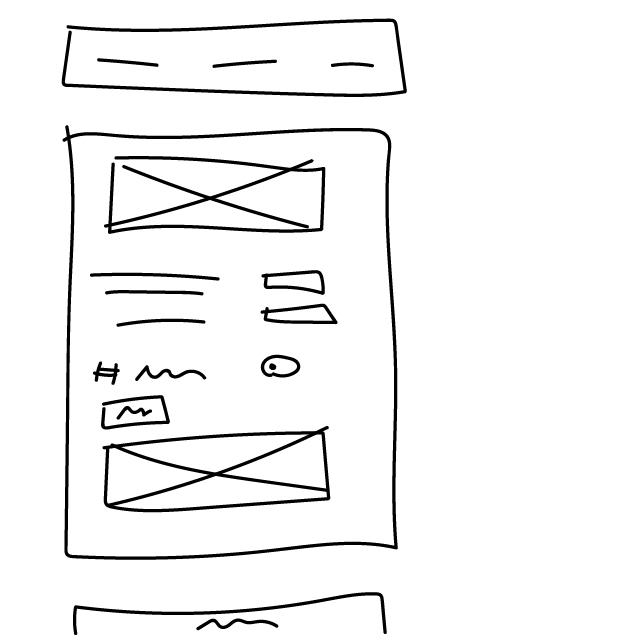button: (101, 390, 176, 428)
checkbox: (259, 354, 307, 384)
container: (46, 116, 417, 568)
footer: (64, 584, 397, 640)
frame: (101, 428, 341, 523), (102, 150, 329, 240)
heading: (93, 358, 220, 392)
input: (261, 302, 343, 334), (261, 271, 330, 300)
nav: (54, 13, 412, 100)
text: (86, 263, 224, 339)
